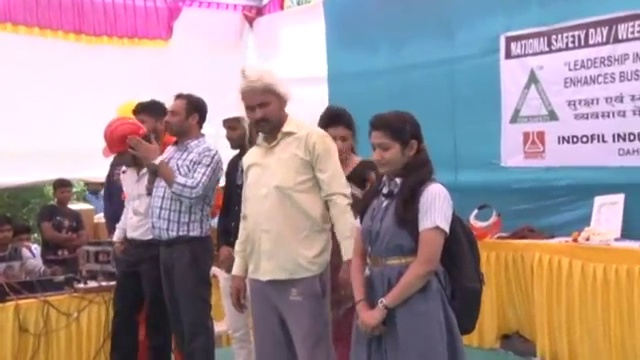helmet: (103, 117, 148, 156), (218, 97, 249, 125)
helmet_off: (361, 112, 428, 185), (237, 75, 290, 133), (161, 92, 207, 148), (318, 109, 361, 157), (131, 99, 168, 143), (12, 221, 34, 254), (51, 180, 74, 210), (0, 215, 15, 248), (88, 179, 103, 197)
helmet_on: (103, 117, 149, 169), (218, 97, 250, 152)
person: (227, 69, 362, 360), (351, 107, 480, 360), (127, 91, 219, 360), (103, 117, 175, 360), (315, 109, 377, 360), (216, 99, 259, 360), (36, 180, 83, 272), (0, 212, 63, 280), (84, 180, 104, 213)
